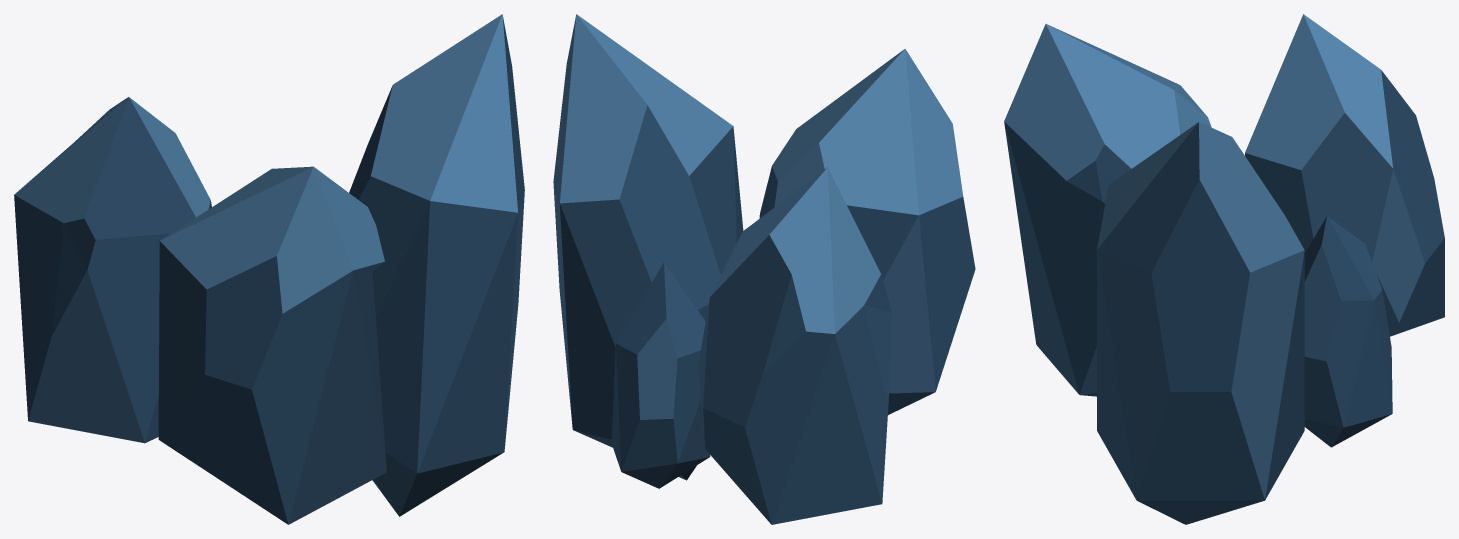
The model's file is MithrilRock3.glb.
3 views of the same model, side by side, from view 1: azimuth 30°, elevation 25°; view 2: azimuth 150°, elevation 25°; view 3: azimuth 270°, elevation 25° (orthographic). The views are drawn at different scales.
Parts seen in each view (by area): view 1: MithrilRock3; view 2: MithrilRock3; view 3: MithrilRock3.
Boxes of the visible parts, x1=… form: MithrilRock3: x1=14, y1=14, x2=524, y2=524; MithrilRock3: x1=553, y1=14, x2=975, y2=524; MithrilRock3: x1=1004, y1=14, x2=1444, y2=524.
Size of the model in its own units: 0.8627 by 0.95 by 0.8343.
